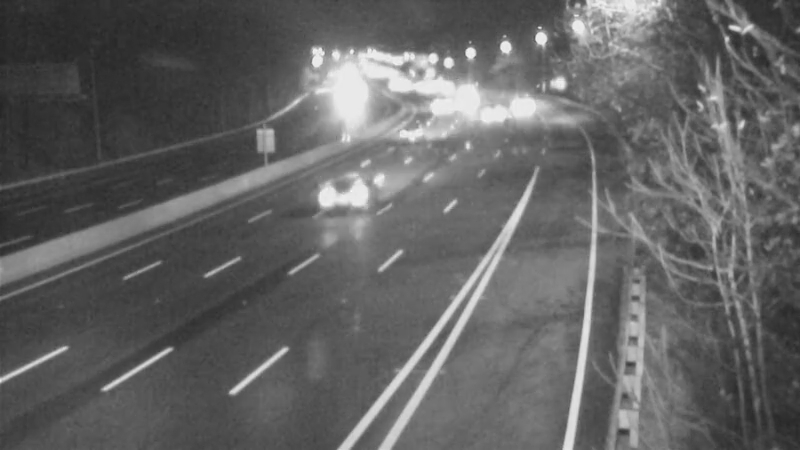vehicle: (293, 154, 373, 234), (435, 79, 485, 129), (493, 81, 543, 131), (416, 80, 466, 130), (468, 89, 518, 139), (386, 106, 436, 156)
